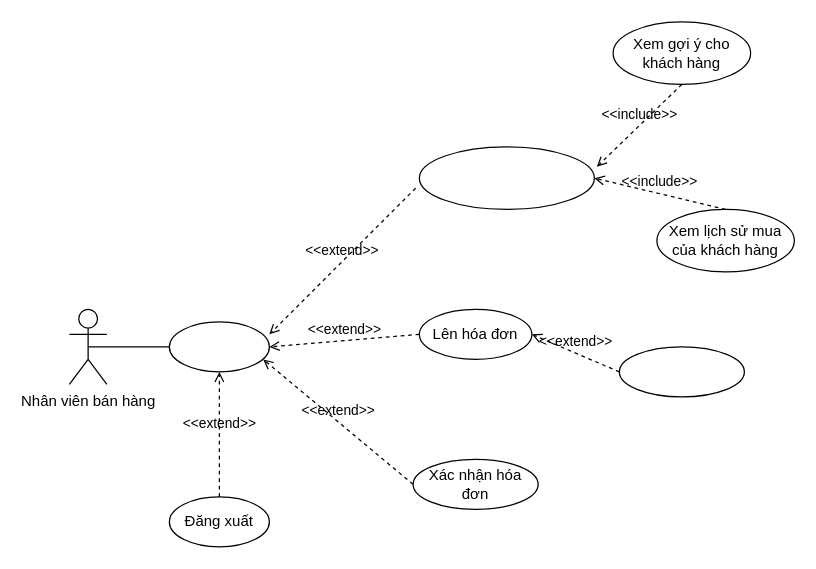
Image size: 816x569. Some labels were removed from this diagram. The centre of each missing label's shape, as x and y in pixels:
Chỉnh sửa hóa đơn: the point at 681,371
Sử dụng nhận diện khuôn mặt: the point at 506,177
Đăng nhập: the point at 218,346
